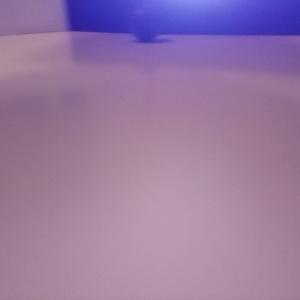dead_ball: (126, 1, 161, 39)
